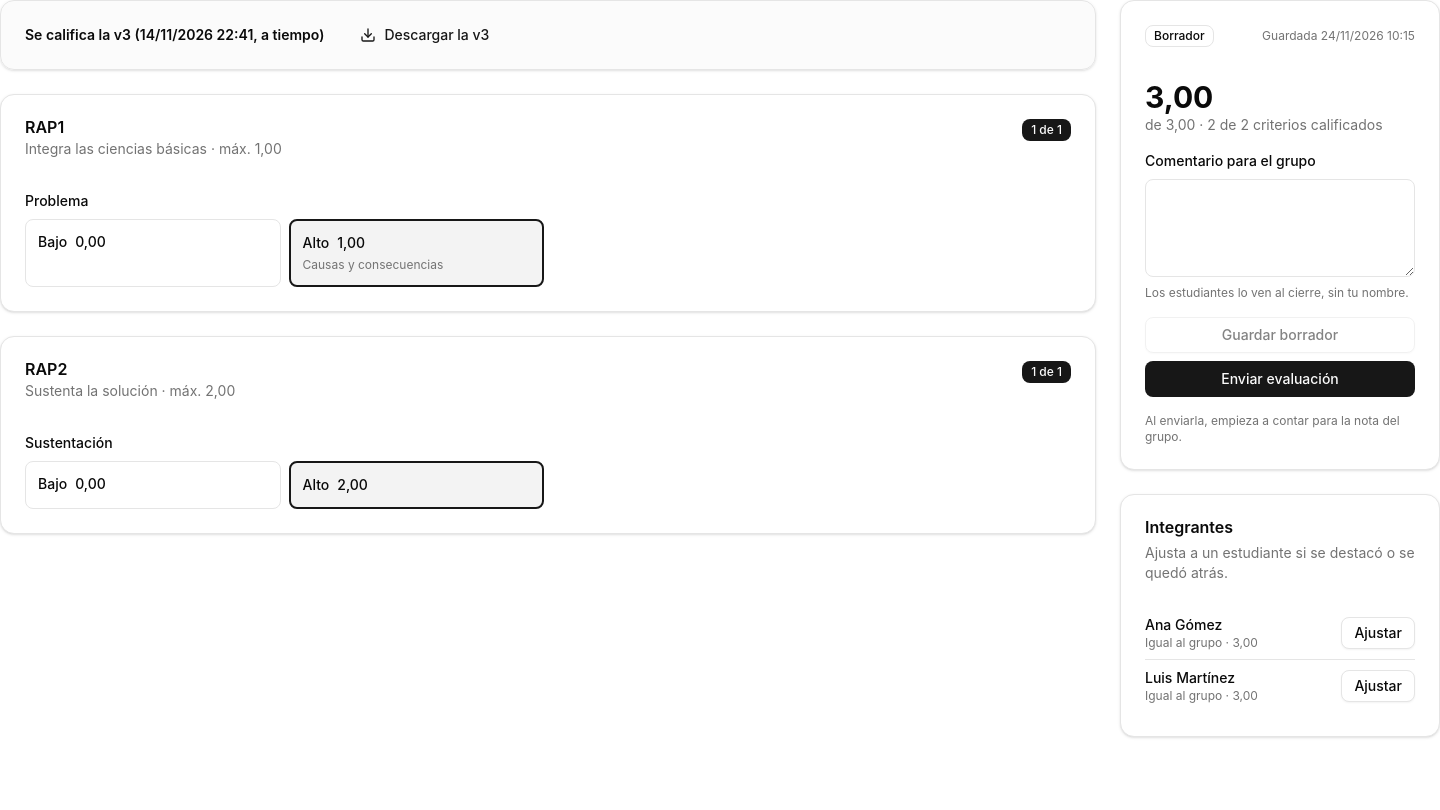
Scenario: EvaluationEditor › shows the message of the API when submitting fails
The width and height of the screenshot is (1440, 810).
Click the button "Enviar evaluación": [1280, 379] box [1145,361,1415,397]
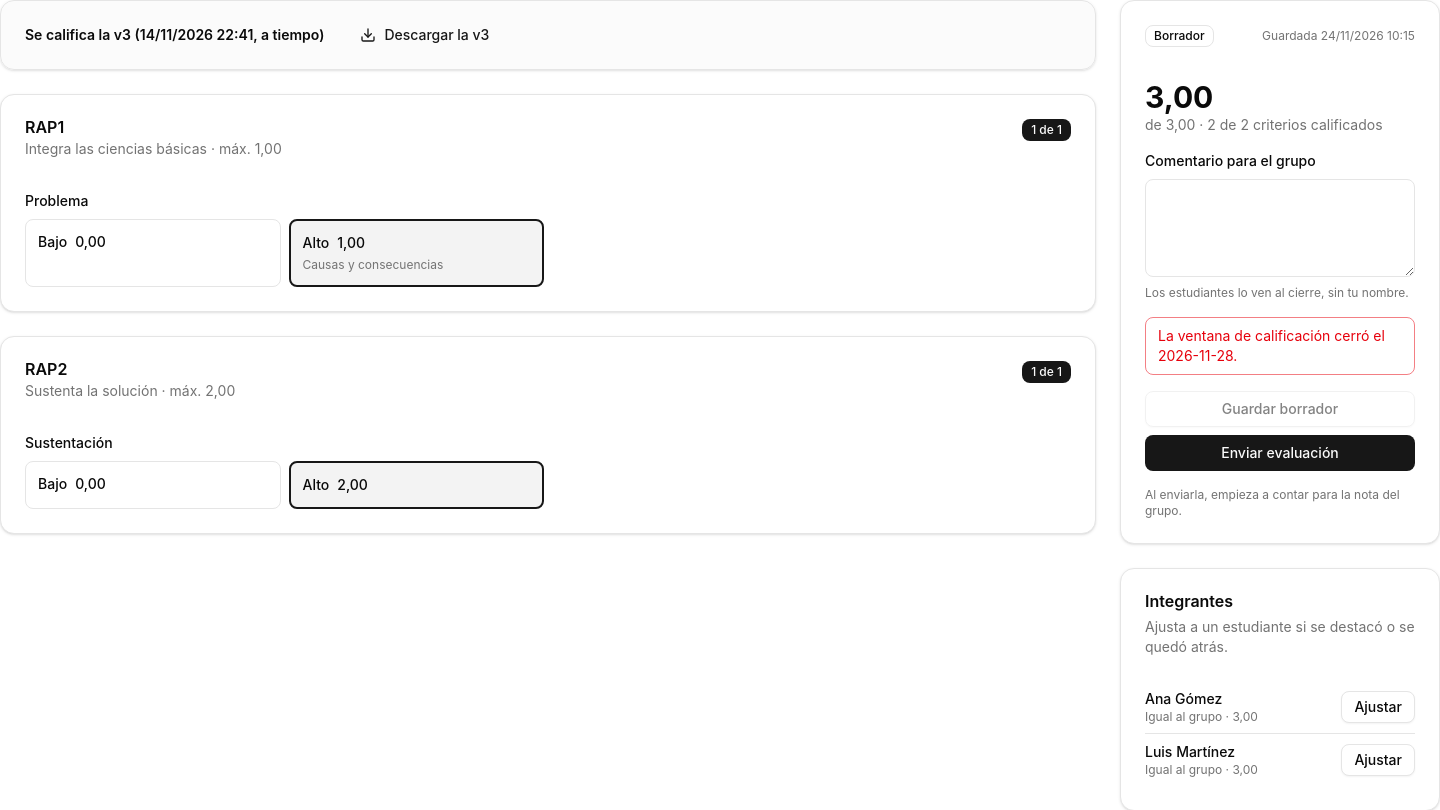
Now the message reads "La ventana de calificación cerró el 2026-11-28.", box [1158,327,1385,364]
